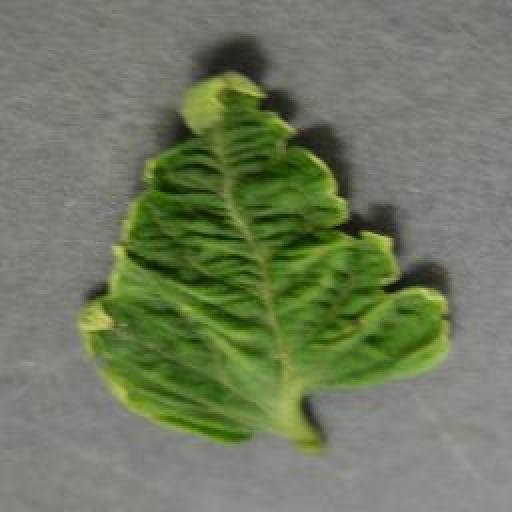disease_tomato: (79, 70, 456, 442)
